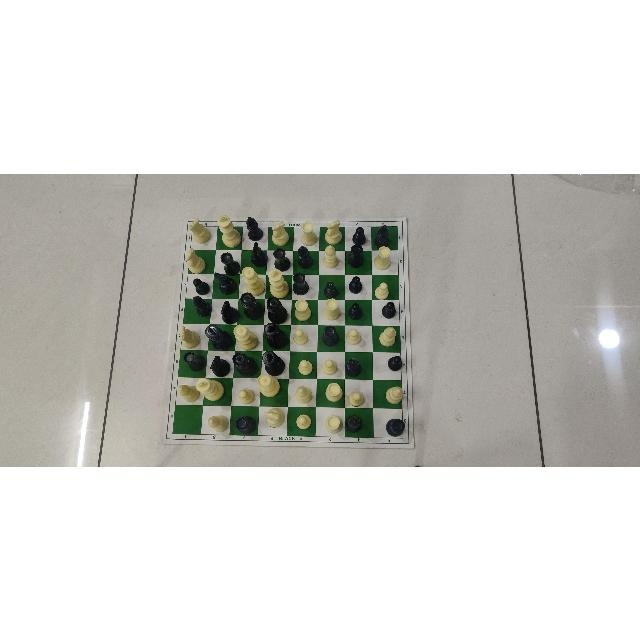black-bishop: (294, 245, 316, 269), (245, 215, 265, 240), (191, 294, 212, 317), (372, 223, 391, 248), (345, 411, 363, 433), (345, 356, 363, 378)
black-king: (204, 323, 232, 349), (264, 321, 288, 349), (261, 350, 286, 375)
black-knight: (212, 270, 237, 293), (209, 352, 231, 377), (218, 299, 239, 322), (248, 241, 267, 266)
black-pawn: (192, 274, 209, 295), (323, 280, 341, 298), (347, 301, 365, 319), (350, 226, 368, 244), (387, 353, 403, 373), (347, 275, 363, 294), (381, 301, 397, 319)
black-queen: (241, 292, 265, 320), (233, 351, 258, 376), (266, 298, 290, 322)
black-rook: (183, 350, 205, 373), (234, 414, 257, 435), (291, 271, 310, 295), (346, 243, 364, 268), (219, 252, 240, 273), (271, 248, 291, 270), (384, 417, 405, 437), (321, 325, 341, 346)
white-bishop: (176, 379, 200, 403), (383, 383, 403, 406), (207, 412, 230, 432), (377, 324, 397, 347), (321, 244, 339, 268), (293, 385, 314, 405)
white-king: (218, 214, 242, 247), (196, 375, 224, 402), (268, 271, 288, 298)
white-knight: (185, 247, 209, 273), (187, 217, 211, 243), (179, 324, 201, 347), (270, 220, 290, 245), (323, 219, 343, 244), (264, 406, 285, 429)
white-pawn: (372, 281, 392, 299), (346, 389, 367, 406), (237, 387, 257, 404), (344, 327, 362, 345), (292, 328, 310, 346), (294, 412, 311, 430), (296, 358, 314, 375), (322, 358, 340, 373)
white-queen: (241, 265, 266, 296), (233, 322, 257, 349), (257, 374, 280, 398)
white-rook: (372, 246, 393, 270), (298, 220, 318, 244), (292, 298, 312, 321), (324, 414, 344, 434), (324, 382, 344, 402), (324, 298, 342, 320)
